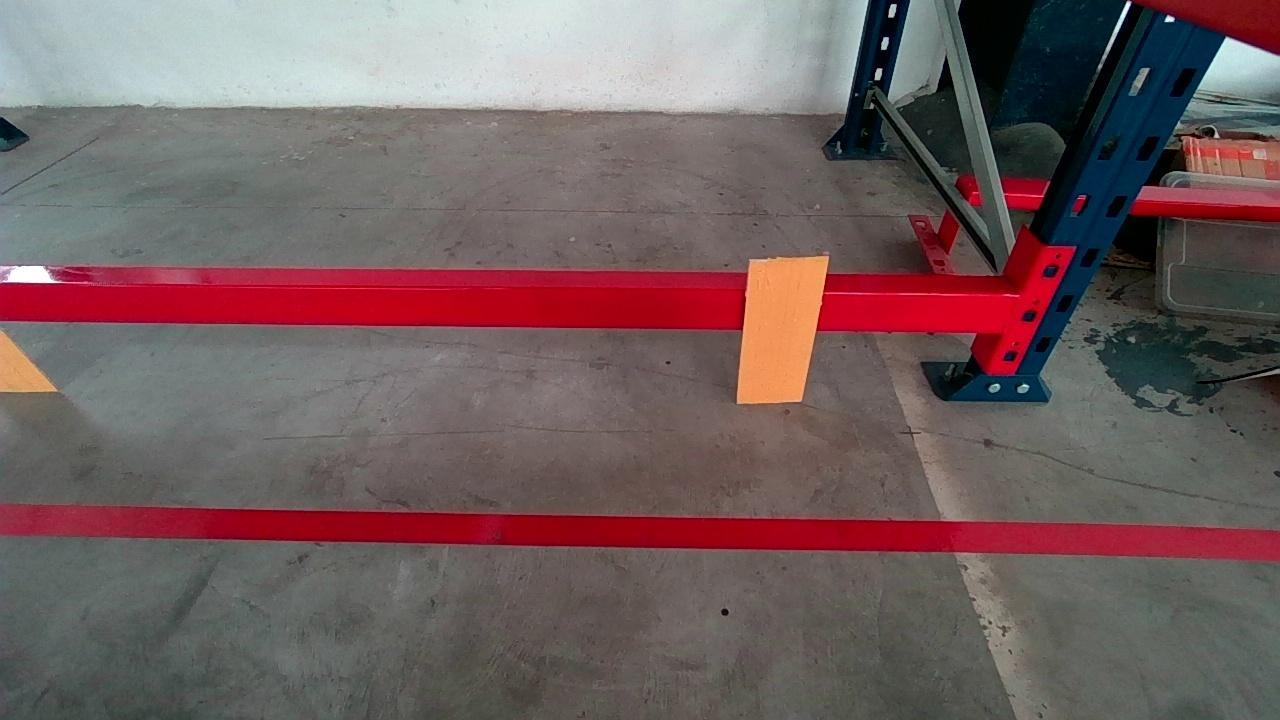h_rack: (13, 278, 1010, 333)
orange_strip: (737, 259, 826, 402)
red_line: (5, 495, 1280, 561)
